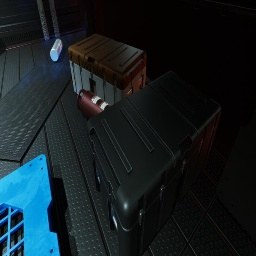0: (50, 38, 63, 62)
NitrogenTank ,: (77, 89, 111, 120)
